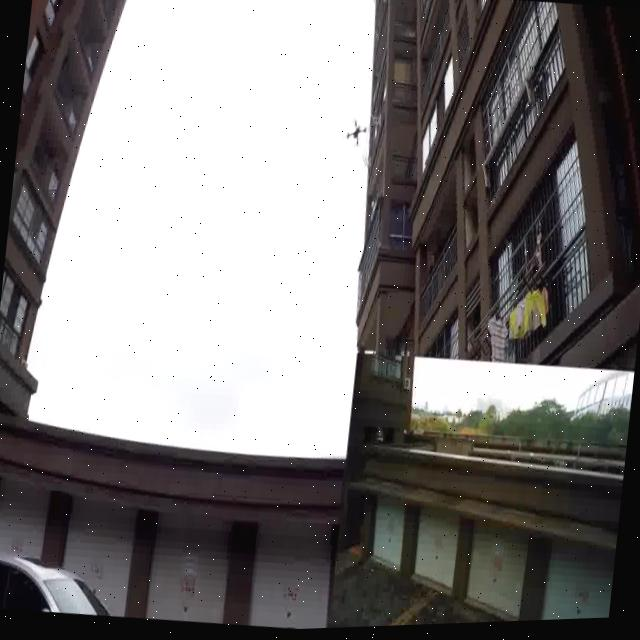drone: (322, 101, 388, 170)
